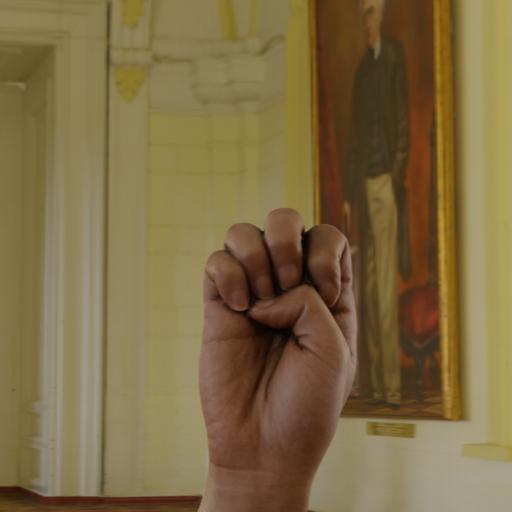E: (165, 188, 380, 486)
